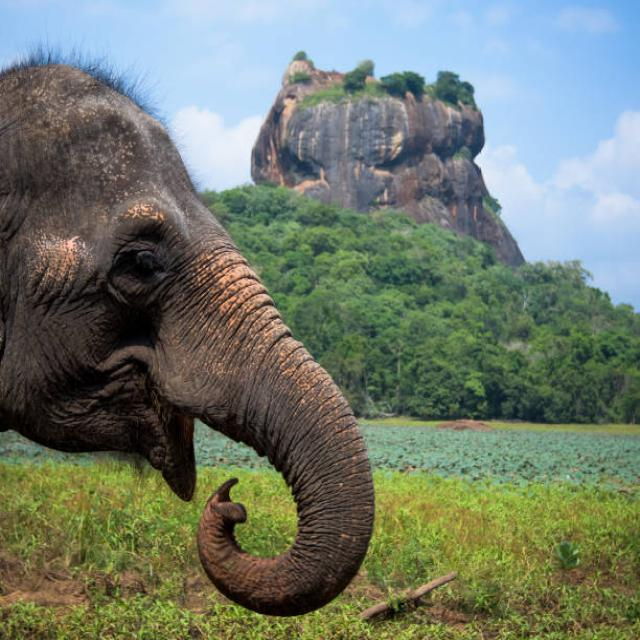Elephant: (0, 48, 396, 615)
